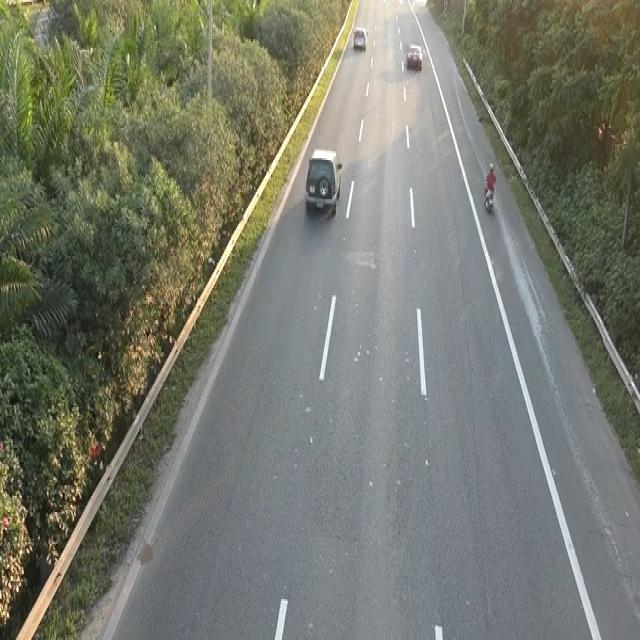car: (303, 146, 343, 218)
minibus: (483, 182, 495, 214)
